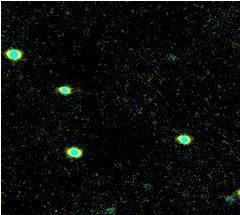star: (222, 172, 240, 202)
